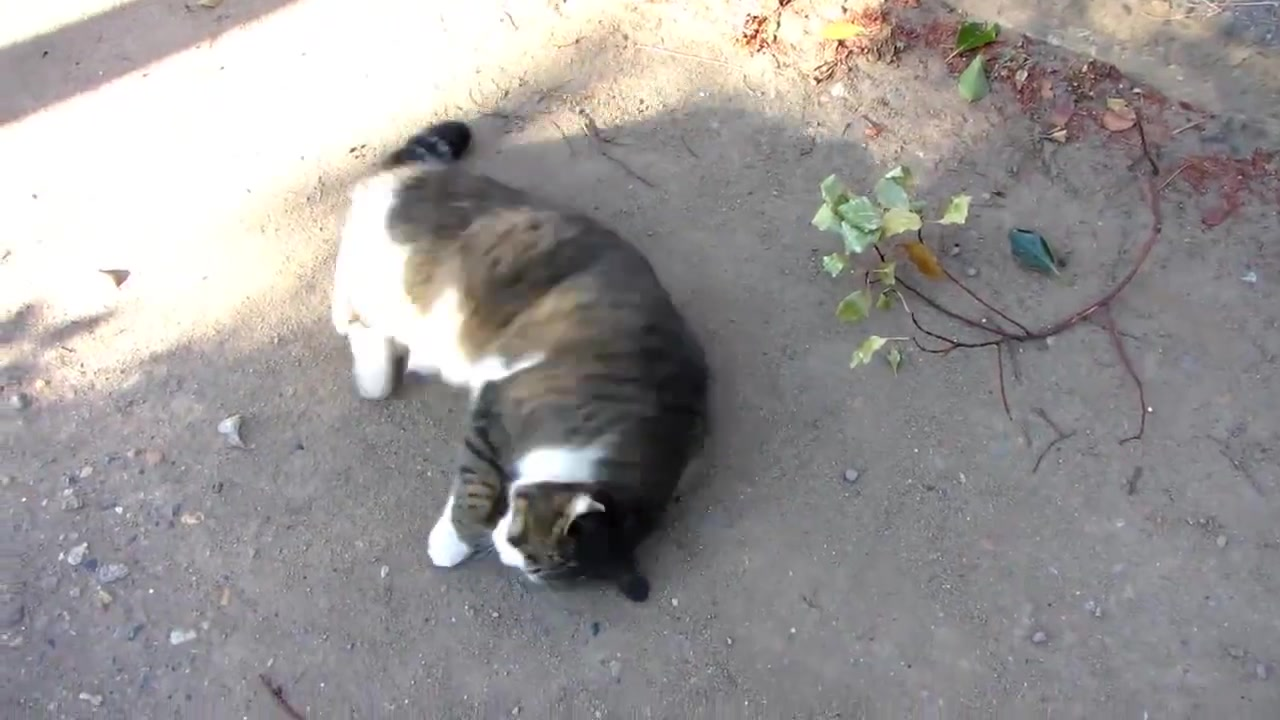cat: (331, 120, 717, 604)
